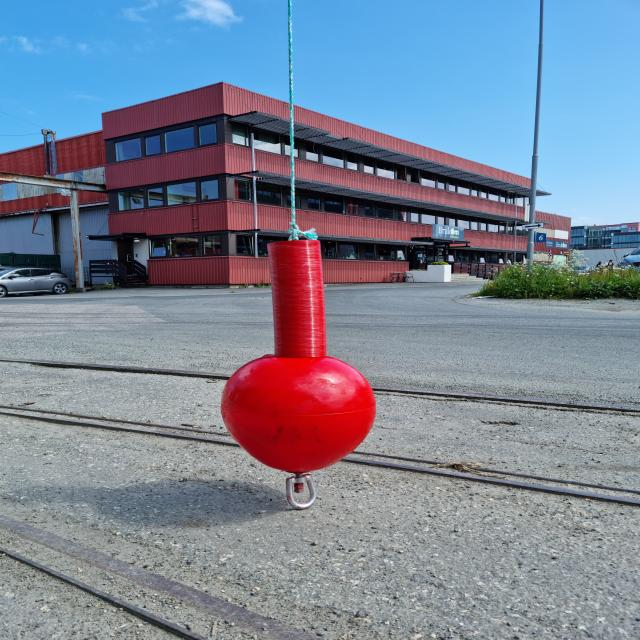red: (220, 241, 376, 473)
